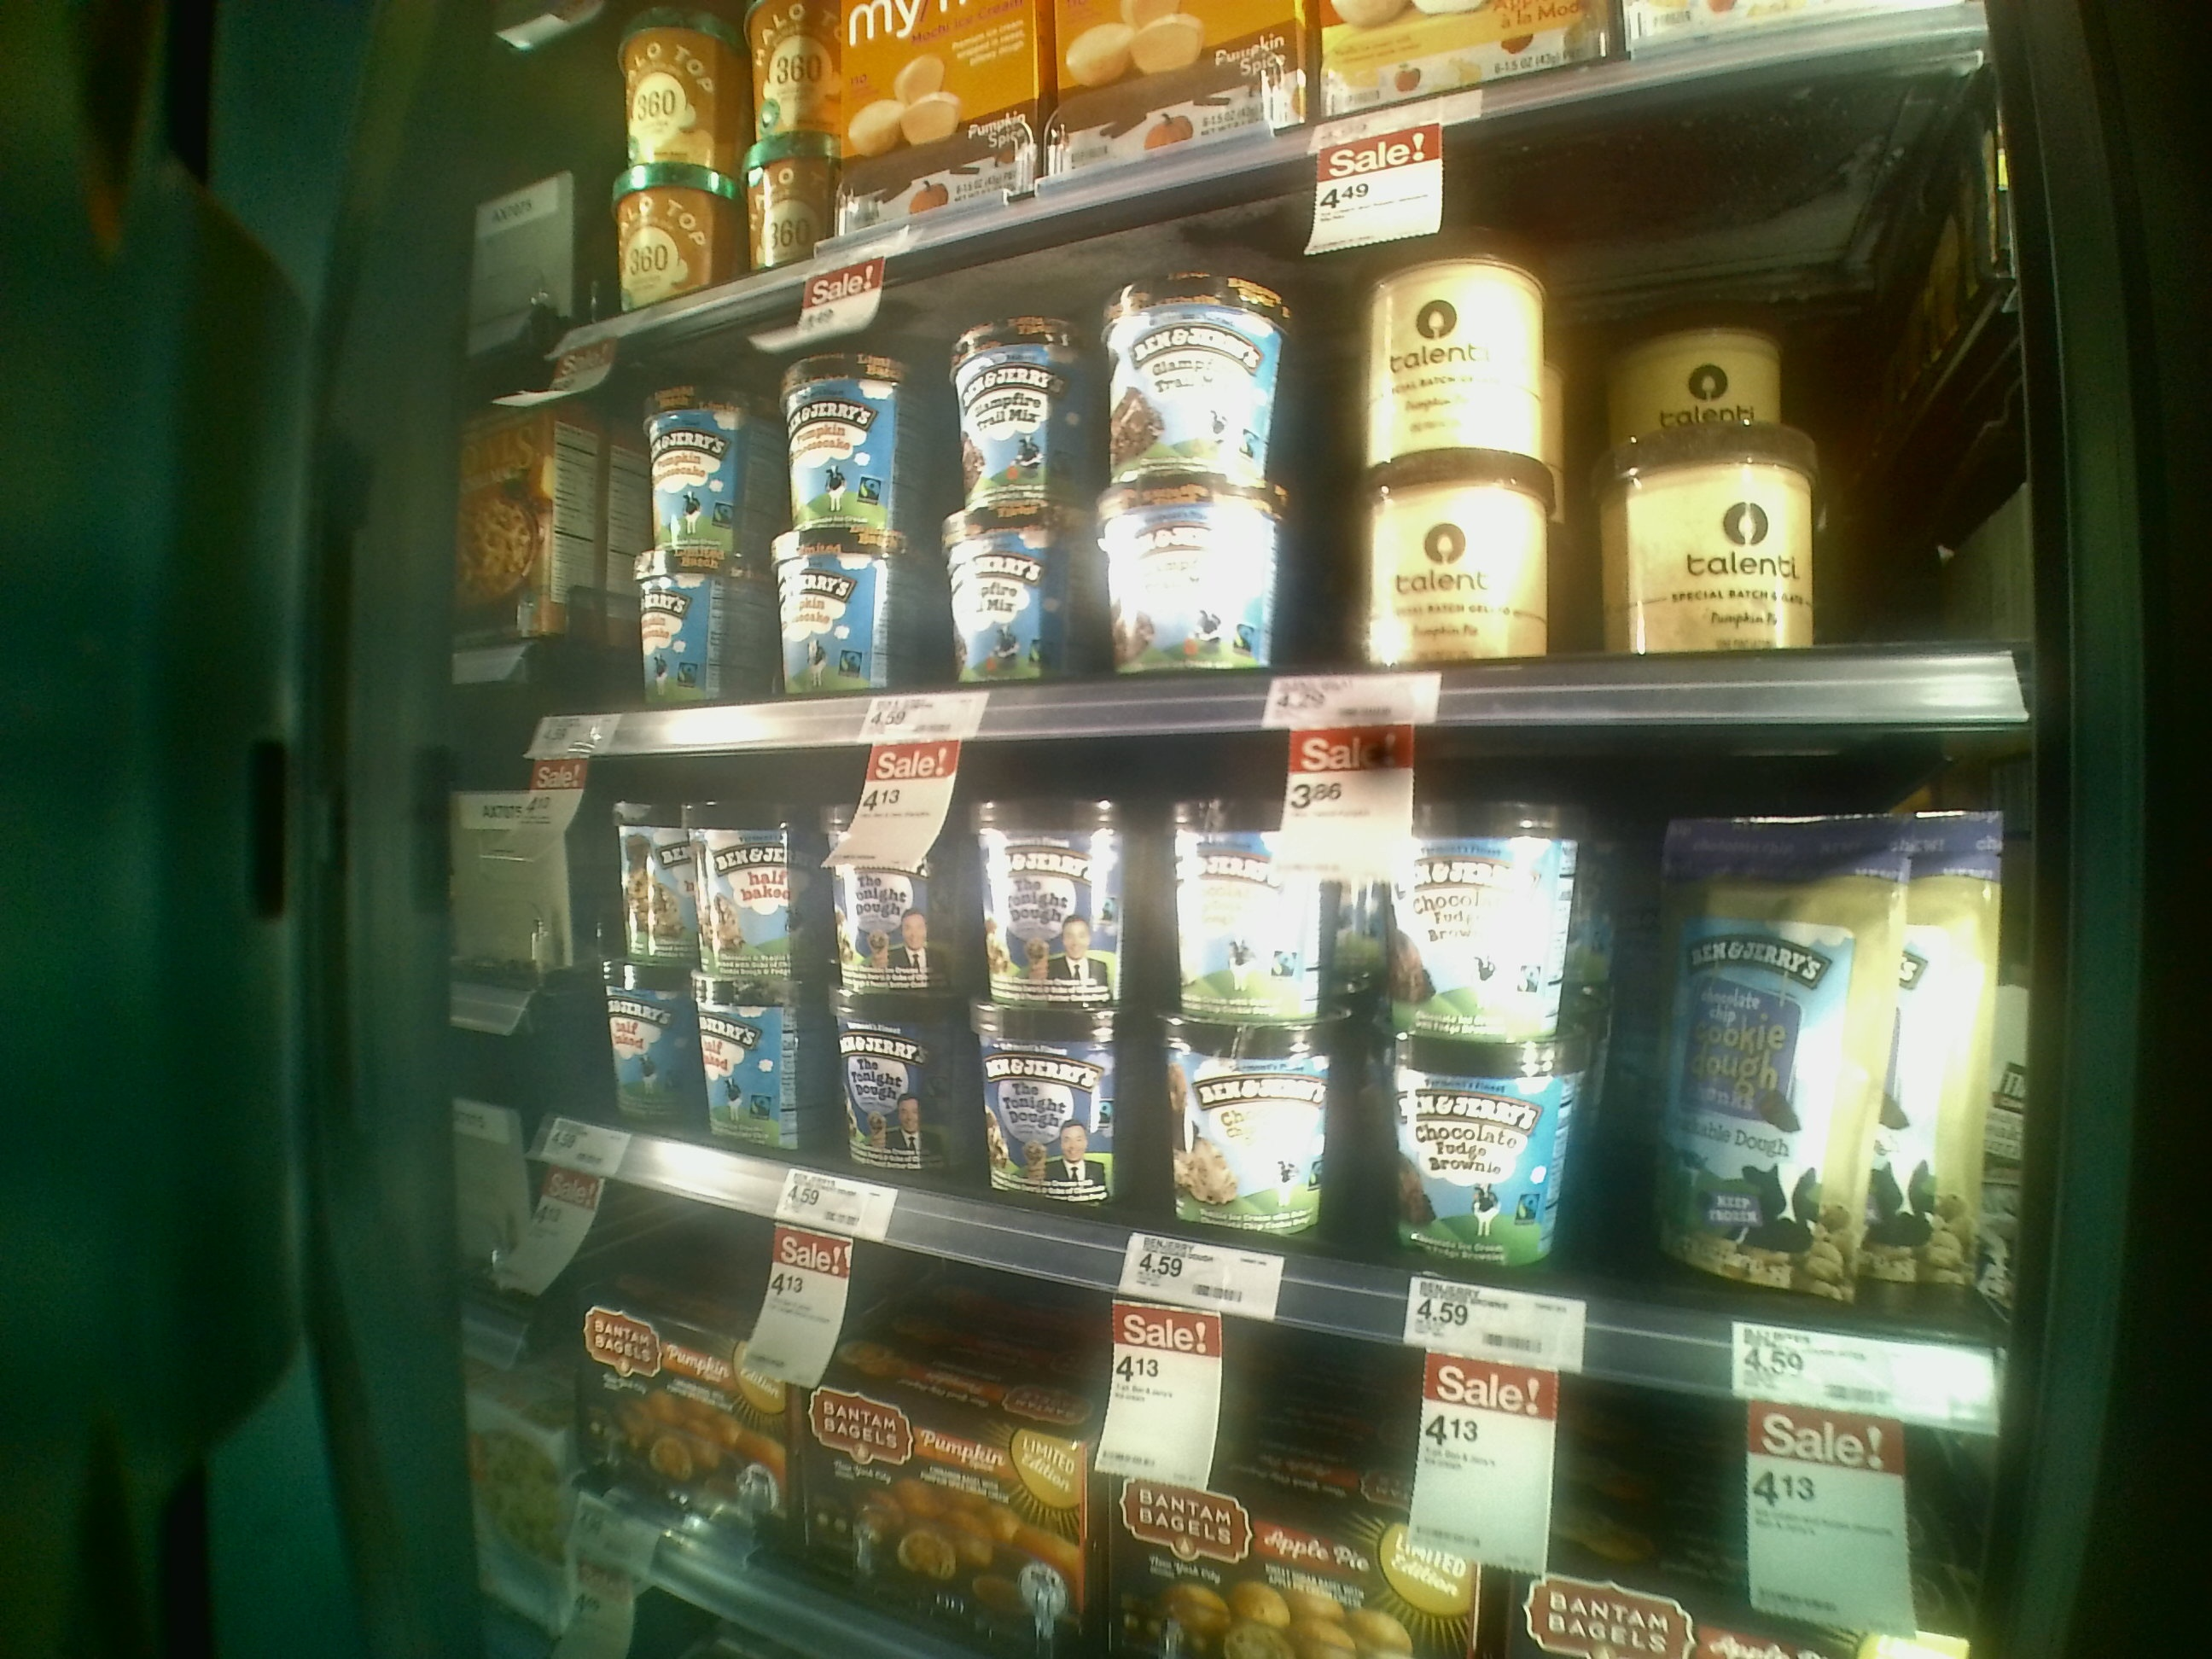shelf: (512, 704, 2031, 1420), (535, 204, 2024, 721)
